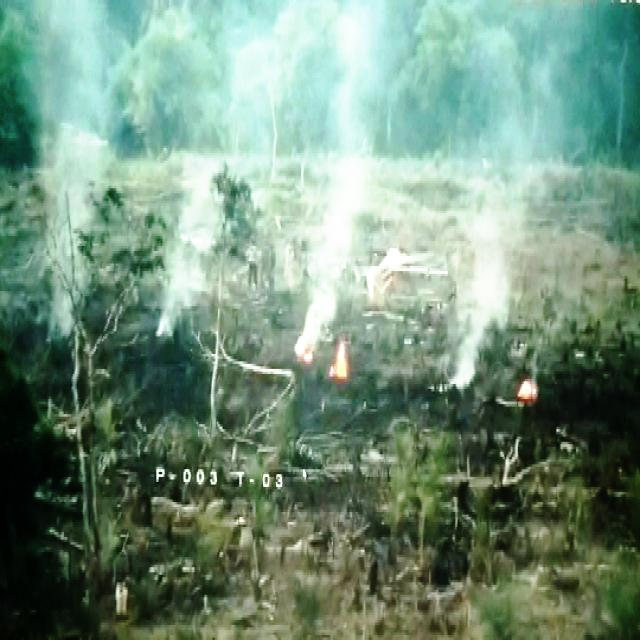asap: (32, 1, 116, 355), (144, 109, 243, 357), (287, 121, 369, 370), (441, 197, 520, 413)
